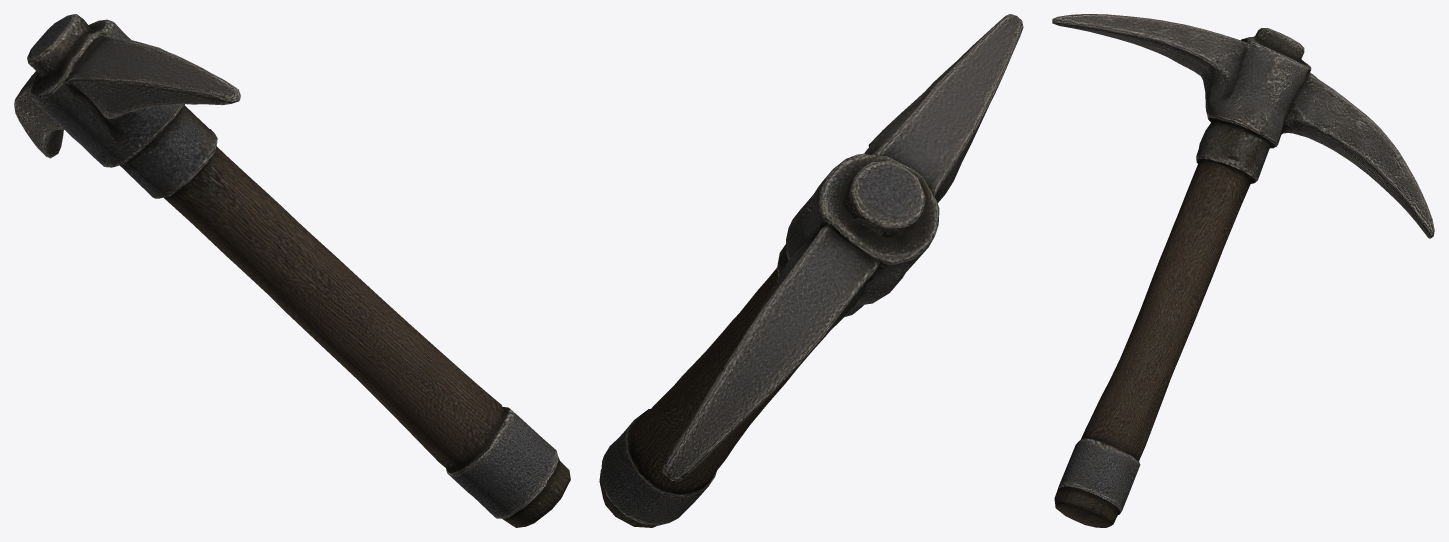
Rendered from iron_pickaxe.fbx.
The picture shows the model from 3 angles, left to right: view 1: azimuth 30°, elevation 25°; view 2: azimuth 150°, elevation 25°; view 3: azimuth 270°, elevation 25°; orthographic projection. The views are drawn at different scales.
Parts seen in each view (by area): view 1: tripo_node_93cccb05; view 2: tripo_node_93cccb05; view 3: tripo_node_93cccb05.
Boxes of the visible parts, <box> form: tripo_node_93cccb05: <box>14,14,570,527</box>; tripo_node_93cccb05: <box>599,14,1023,527</box>; tripo_node_93cccb05: <box>1052,14,1434,527</box>.
Size of the model in its own units: 0.8025 by 0.9792 by 0.8519.
